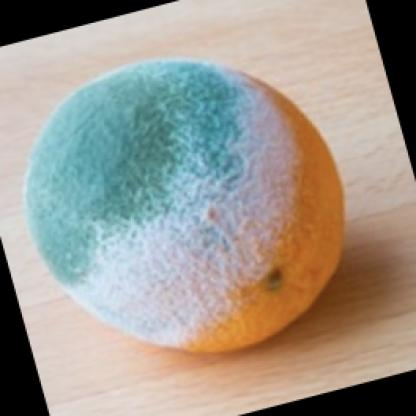rotten: (26, 60, 347, 354)
